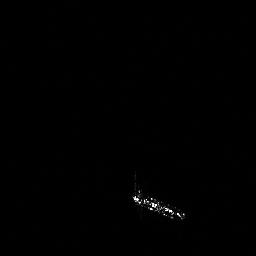ship: (128, 182, 188, 224)
